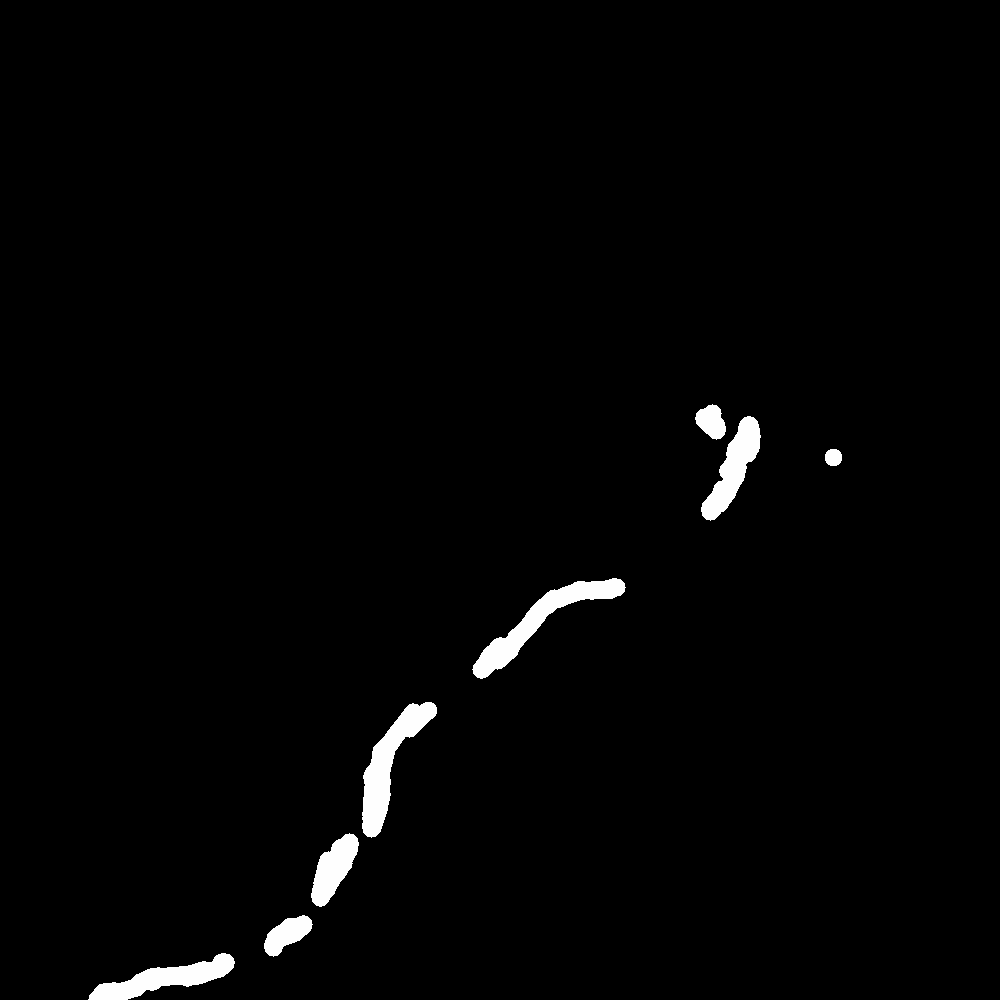illegal: (394, 582, 568, 733), (83, 904, 307, 1000), (661, 415, 774, 546), (306, 738, 390, 889)
